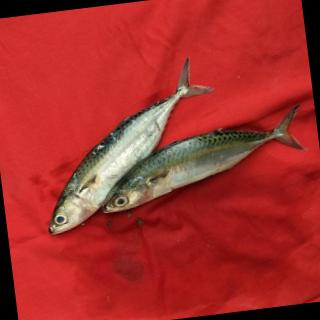Ikan: (12, 39, 320, 256)
